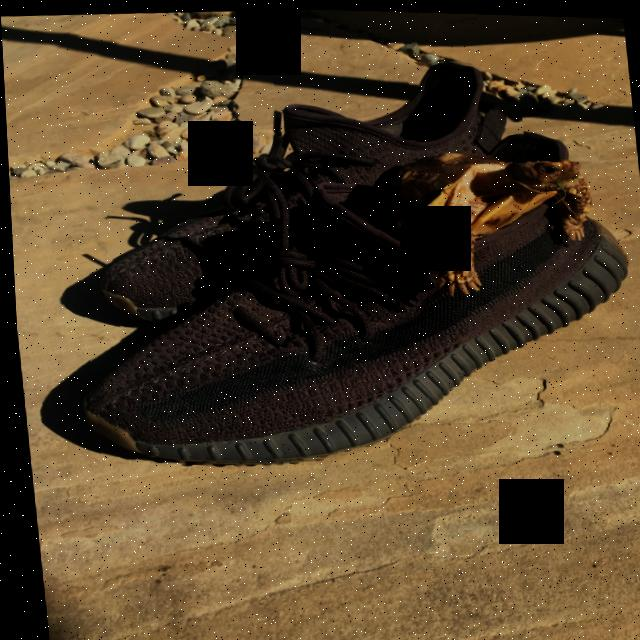shoe: (64, 142, 640, 480), (67, 43, 540, 334)
